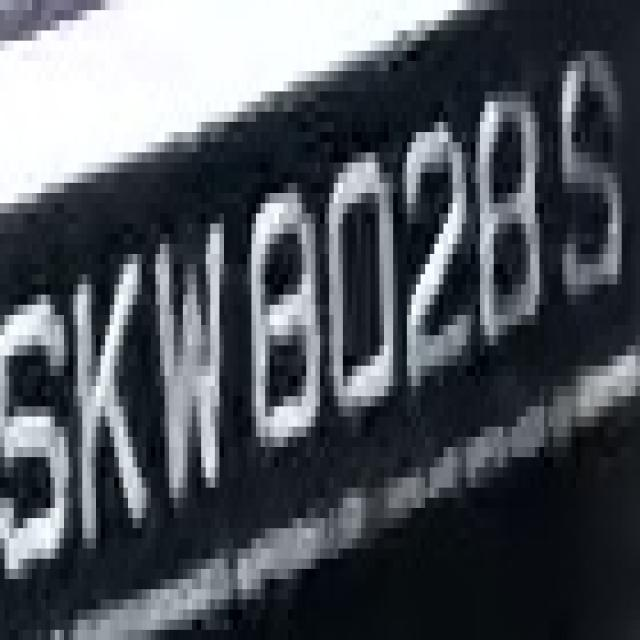0: (306, 122, 384, 416)
2: (393, 71, 480, 406)
8: (247, 162, 320, 468), (466, 71, 544, 335)
K: (64, 203, 155, 528)
S: (558, 10, 635, 315), (9, 254, 69, 559)
W: (156, 183, 242, 508)
